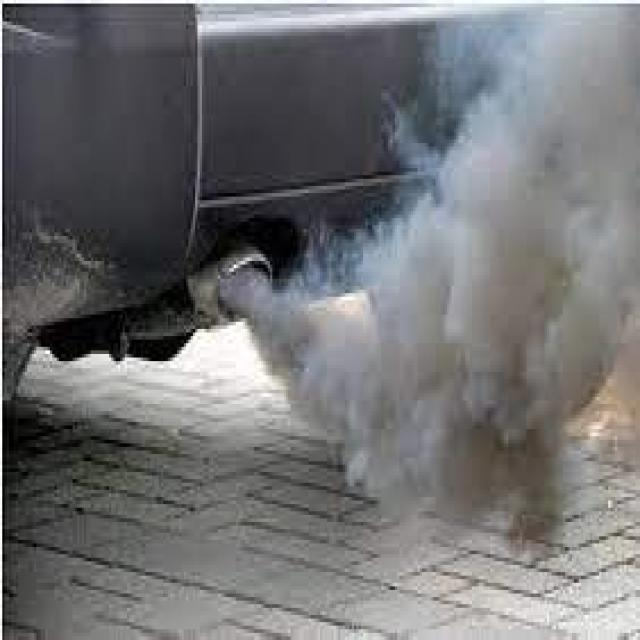Smoke: (232, 8, 640, 556)
